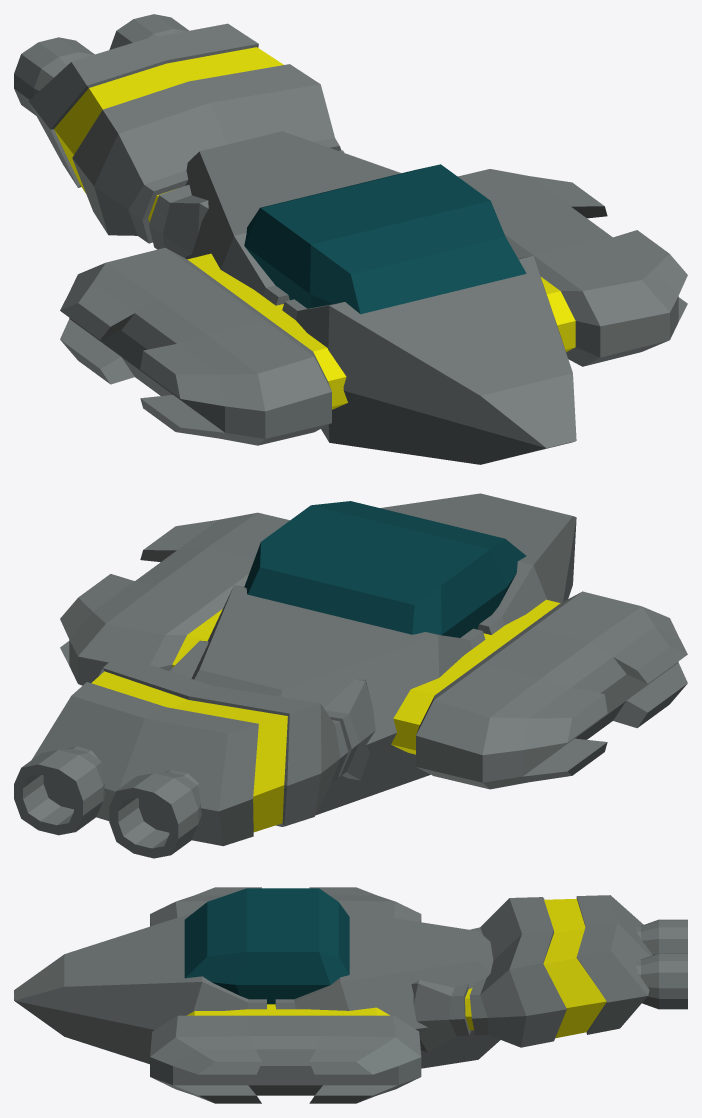
The model's file is spaceship_4.fbx.
3 renders of one model, top to bottom at view 1: azimuth 30°, elevation 25°; view 2: azimuth 150°, elevation 25°; view 3: azimuth 270°, elevation 25°, orthographic. The views are drawn at different scales.
Parts seen in each view (by area): view 1: spaceship.003; view 2: spaceship.003; view 3: spaceship.003.
Boxes of the visible parts, <box> form: spaceship.003: <box>14,14,687,464</box>; spaceship.003: <box>14,493,687,858</box>; spaceship.003: <box>14,887,687,1103</box>.
Bounding box in the file's own units: 615 × 200 × 976.
